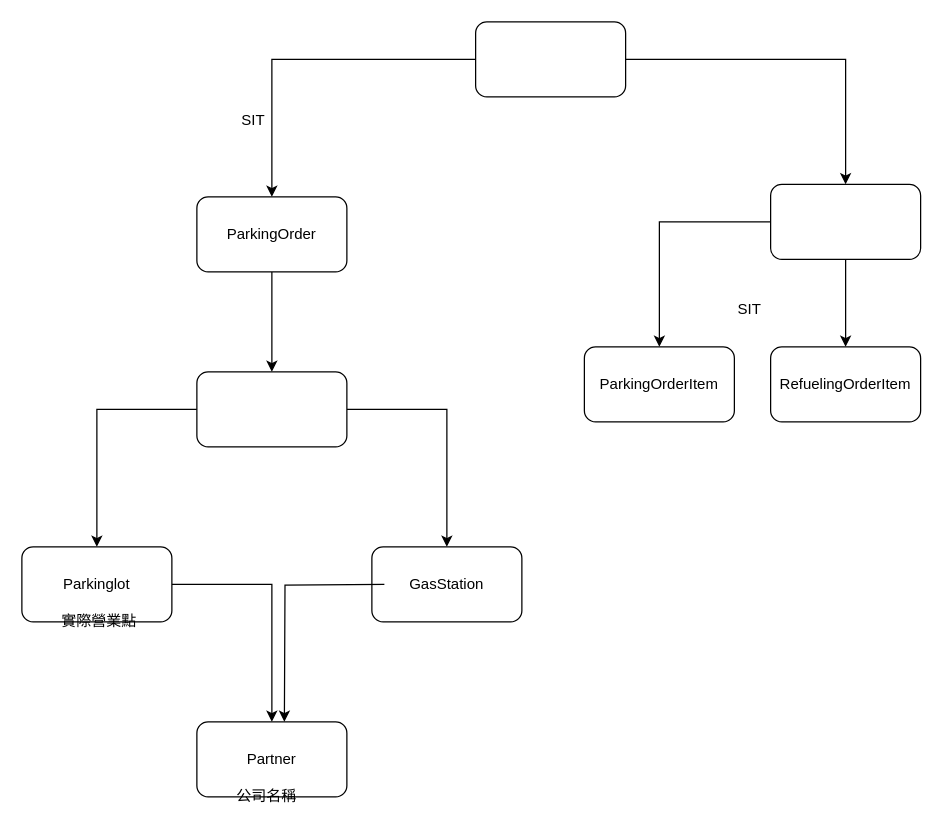
The diagram is 943 pixels wide and 831 high, and some of its shapes have lost their labels. The shapes that lost their labels are listed below. From the top down, each one's centre as x and y in pixels, then its label:
the point at 550,59: Order
the point at 845,221: OrderItem
the point at 271,409: ParkingRecord
